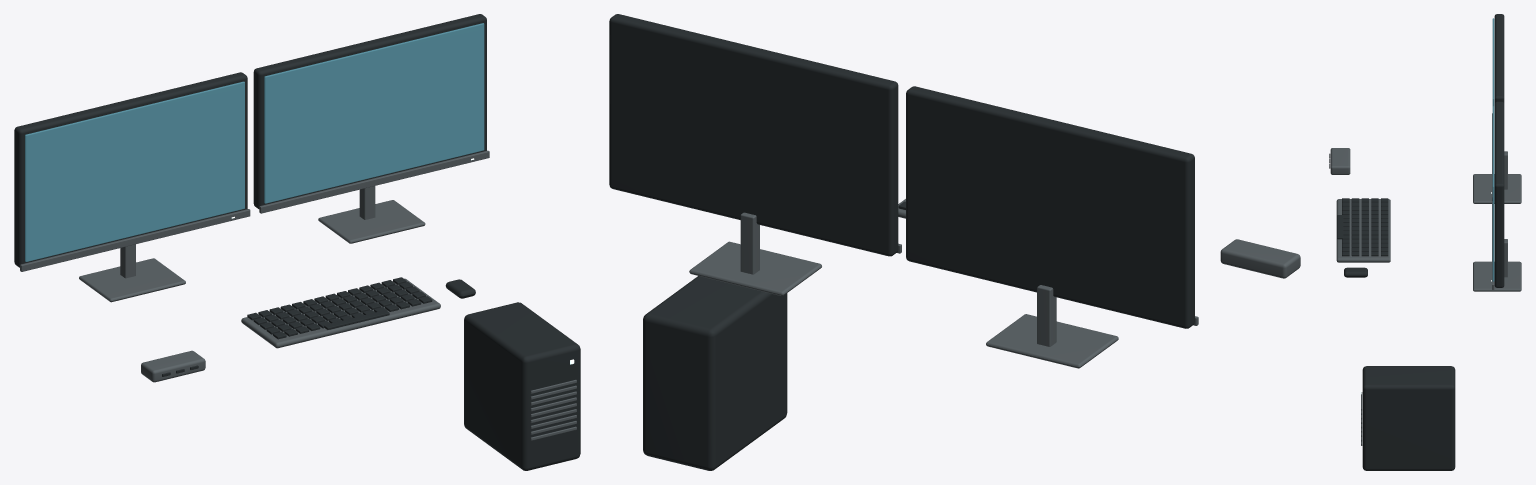
File: workstation.glb
3 views of the same model, side by side, from view 1: azimuth 30°, elevation 25°; view 2: azimuth 150°, elevation 25°; view 3: azimuth 270°, elevation 25° (orthographic). The views are drawn at different scales.
Parts seen in each view (by area): view 1: Monitor chassis, MonitorScreen.001, MonitorScreen, Lower bezel; view 2: Monitor chassis, Lower bezel; view 3: Monitor chassis, Lower bezel, MonitorScreen.001, MonitorScreen.
Part boxes in pixels (x1,y1,x2,y2): Monitor chassis: (14, 14, 580, 470); MonitorScreen.001: (264, 23, 484, 203); MonitorScreen: (25, 81, 244, 261); Lower bezel: (20, 150, 576, 440); Monitor chassis: (609, 14, 1194, 470); Lower bezel: (689, 199, 1300, 368); Monitor chassis: (1329, 14, 1504, 470); Lower bezel: (1330, 113, 1521, 445); MonitorScreen.001: (1492, 106, 1494, 281); MonitorScreen: (1492, 18, 1494, 105).
Bounding box in the file's own units: 1.86 × 1.43 × 0.8705.
